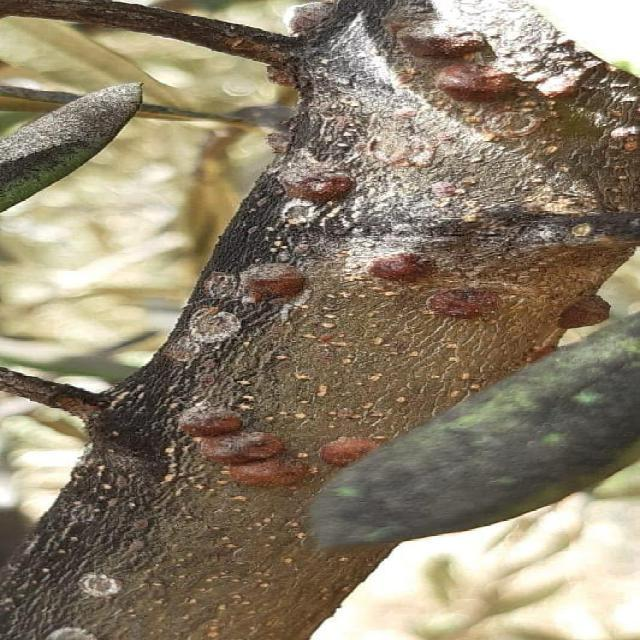BlackScale: (178, 401, 310, 486), (393, 18, 492, 62), (434, 64, 533, 102), (280, 164, 354, 203), (238, 264, 307, 302), (558, 294, 620, 330), (427, 289, 499, 319), (276, 0, 336, 36), (366, 254, 430, 284), (319, 436, 374, 466)
